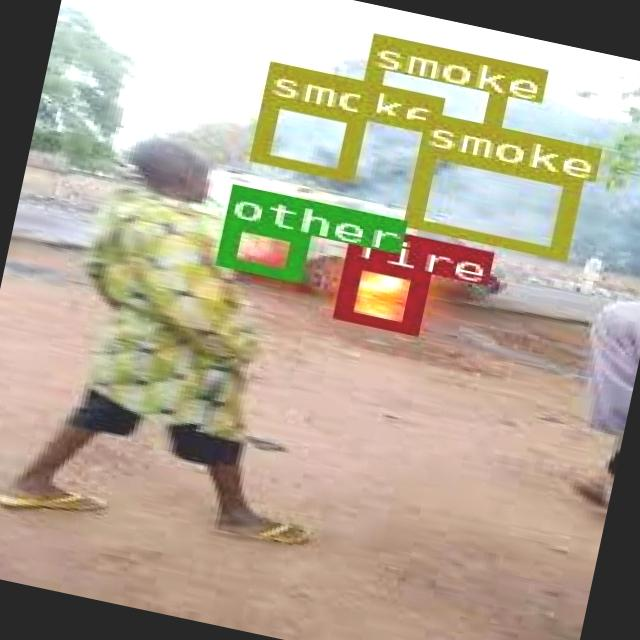fire: (331, 253, 428, 333)
smoke: (401, 143, 577, 257), (353, 32, 508, 143), (247, 93, 360, 179)
